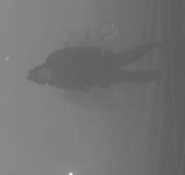person: (27, 39, 167, 88)
